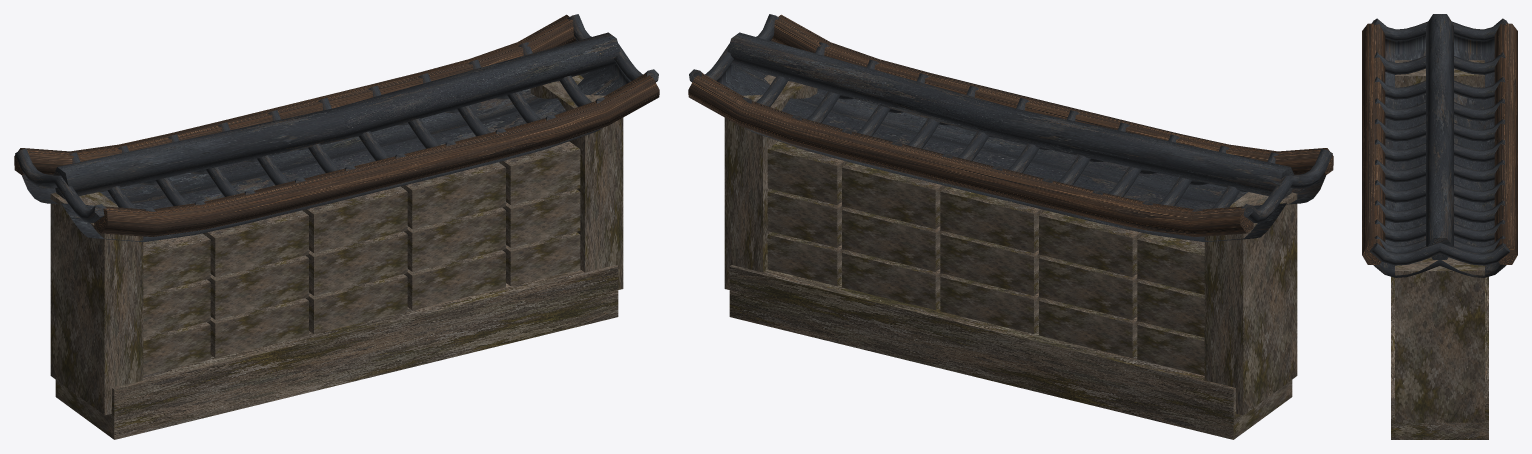
Rendered from sakura-wall.glb.
3 renders of one model, left to right at view 1: azimuth 30°, elevation 25°; view 2: azimuth 150°, elevation 25°; view 3: azimuth 270°, elevation 25°, orthographic. The views are drawn at different scales.
Visible parts, largest first — view 1: sakura-wall-sakura-stone, sakura-wall-sakura-tile, sakura-wall-sakura-wood; view 2: sakura-wall-sakura-stone, sakura-wall-sakura-tile, sakura-wall-sakura-wood; view 3: sakura-wall-sakura-tile, sakura-wall-sakura-stone, sakura-wall-sakura-wood.
Boxes of the visible parts, box(x1,y1,x2,y2) form: sakura-wall-sakura-stone: box(50, 75, 623, 439); sakura-wall-sakura-tile: box(15, 14, 658, 241); sakura-wall-sakura-wood: box(14, 14, 659, 236); sakura-wall-sakura-stone: box(724, 75, 1297, 439); sakura-wall-sakura-tile: box(689, 14, 1332, 241); sakura-wall-sakura-wood: box(688, 14, 1333, 236); sakura-wall-sakura-tile: box(1370, 14, 1509, 277); sakura-wall-sakura-stone: box(1391, 60, 1488, 439); sakura-wall-sakura-wood: box(1362, 23, 1517, 264).
Size of the model in its own units: 4.7 by 2.02 by 1.35.
Materials: 3 (3 with a texture image).
